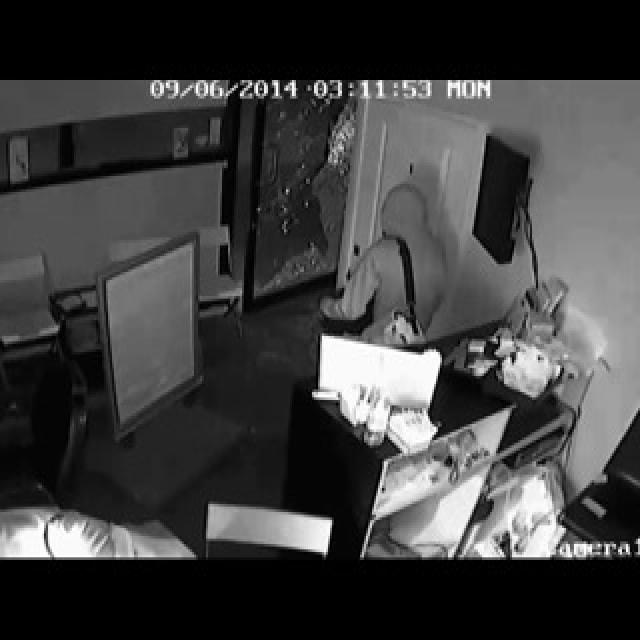thief: (323, 186, 438, 370)
